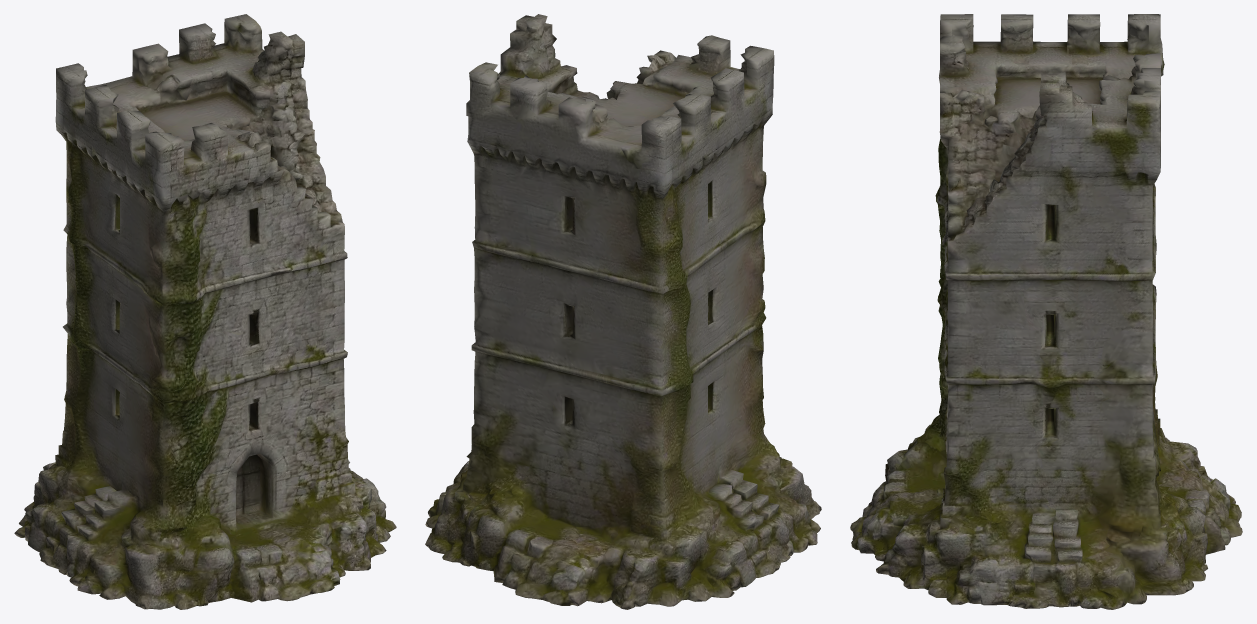
Rendered from raven-keep.glb.
3 views of the same model, side by side, from view 1: azimuth 30°, elevation 25°; view 2: azimuth 150°, elevation 25°; view 3: azimuth 270°, elevation 25° (orthographic). The views are drawn at different scales.
Parts seen in each view (by area): view 1: tripo_node_6b5b71d8-c73a-4d2c-a418-70b5ecb697ce; view 2: tripo_node_6b5b71d8-c73a-4d2c-a418-70b5ecb697ce; view 3: tripo_node_6b5b71d8-c73a-4d2c-a418-70b5ecb697ce.
Part boxes in pixels (x1,y1,x2,y2): tripo_node_6b5b71d8-c73a-4d2c-a418-70b5ecb697ce: (14, 14, 396, 609); tripo_node_6b5b71d8-c73a-4d2c-a418-70b5ecb697ce: (425, 14, 821, 609); tripo_node_6b5b71d8-c73a-4d2c-a418-70b5ecb697ce: (850, 14, 1242, 609).
Size of the model in its own units: 0.6954 by 1 by 0.7176.
Materials: 1 (1 with a texture image).
